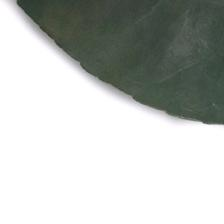healthy: (9, 0, 224, 122)
